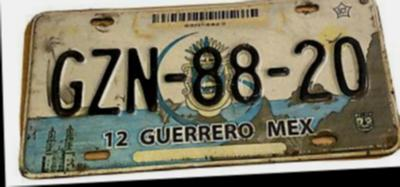License_Plate: (23, 0, 399, 174)
